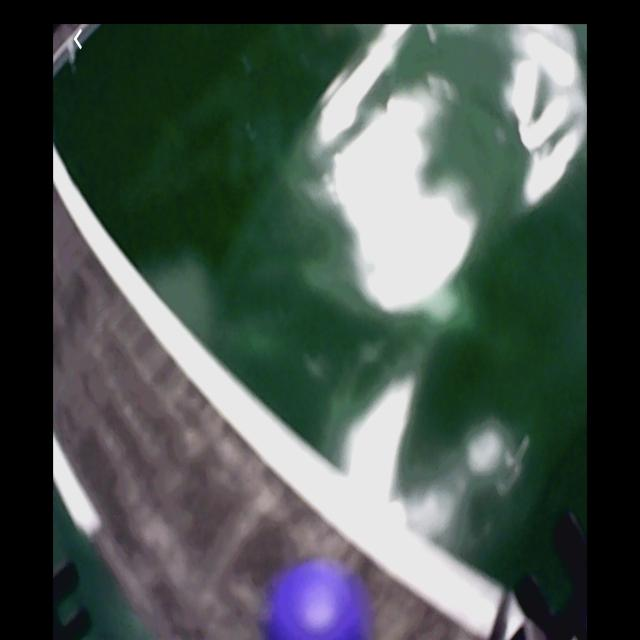ball: (269, 564, 369, 640)
